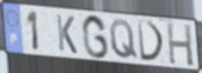1: (24, 10, 40, 52)
D: (136, 18, 167, 63)
G: (81, 13, 110, 60)
H: (165, 21, 195, 68)
K: (55, 12, 79, 56)
Q: (108, 18, 140, 61)
